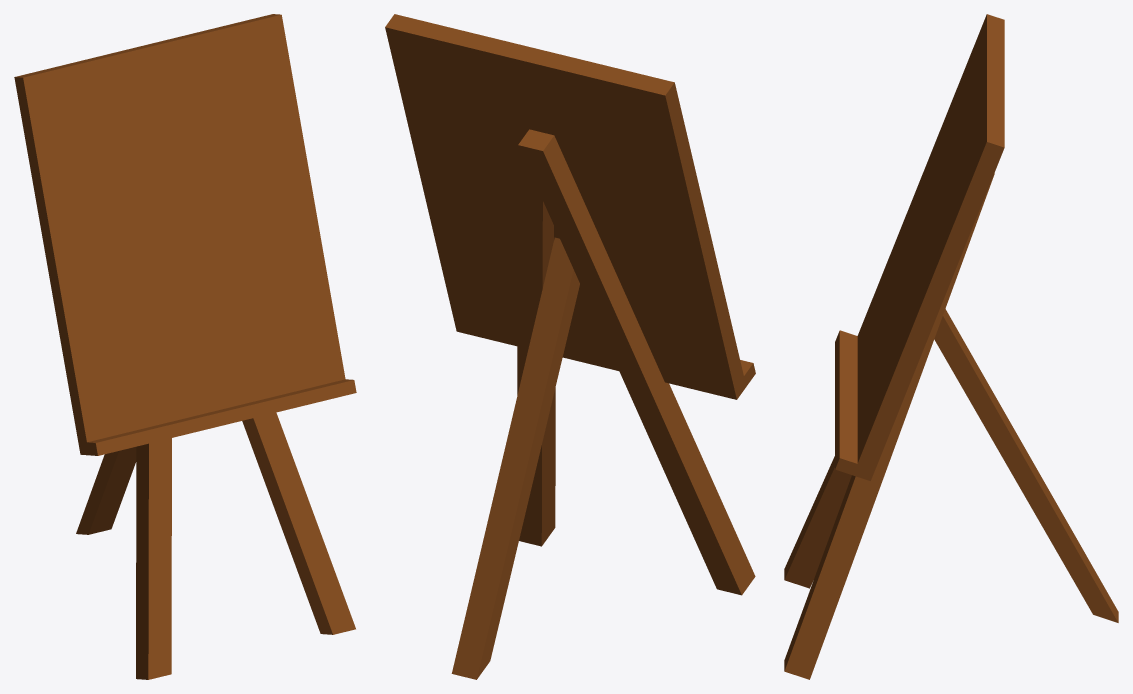
Rendered from staffelei.dae.
3 views of the same model, side by side, from view 1: azimuth 30°, elevation 25°; view 2: azimuth 150°, elevation 25°; view 3: azimuth 270°, elevation 25° (orthographic). The views are drawn at different scales.
Parts seen in each view (by area): view 1: Cube; view 2: Cube; view 3: Cube.
Boxes of the visible parts, x1=… form: Cube: x1=14, y1=14, x2=356, y2=679; Cube: x1=385, y1=14, x2=755, y2=679; Cube: x1=784, y1=14, x2=1118, y2=679.
Bounding box in the file's own units: 1.12 × 1.24 × 2.25.
